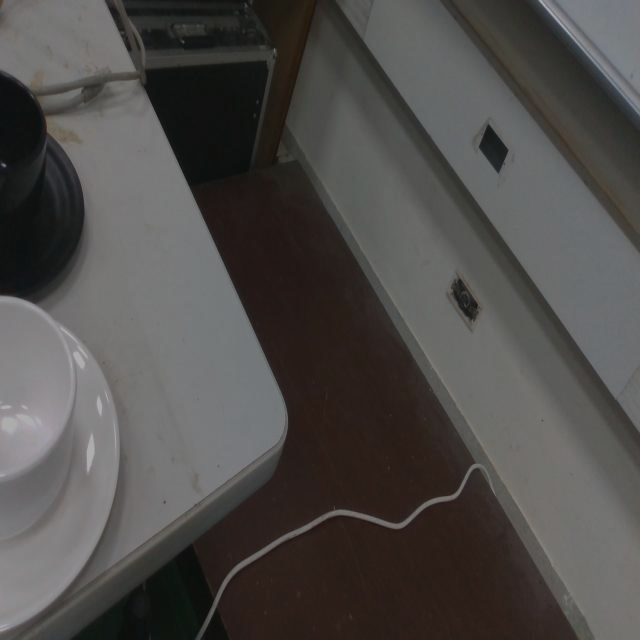black: (0, 63, 87, 298)
white: (0, 289, 123, 635)
